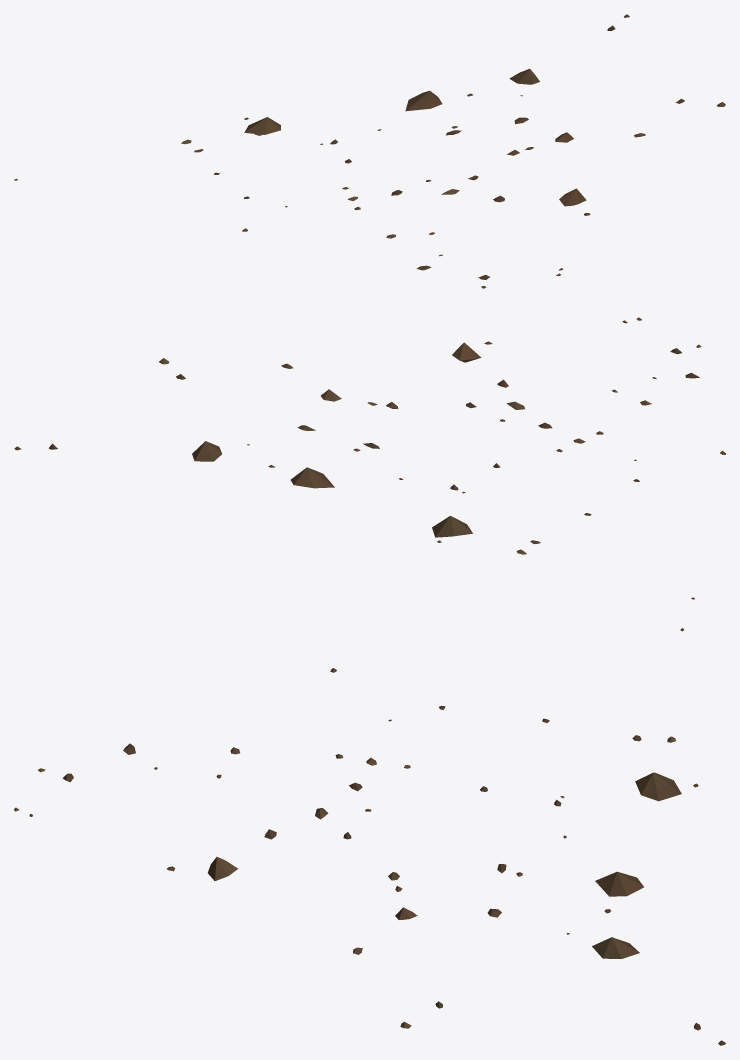
File: ground-3-0.glb
The picture shows the model from 3 angles, top to bottom: view 1: azimuth 30°, elevation 25°; view 2: azimuth 150°, elevation 25°; view 3: azimuth 270°, elevation 25°; orthographic projection. The views are drawn at different scales.
Visible parts, largest first — view 1: ground-3-0; view 2: ground-3-0; view 3: ground-3-0.
Boxes of the visible parts, x1=… form: ground-3-0: x1=14, y1=14, x2=725, y2=288; ground-3-0: x1=14, y1=317, x2=725, y2=599; ground-3-0: x1=14, y1=628, x2=725, y2=1045.
Bounding box in the file's own units: 10.84 × 0.4672 × 7.82.
